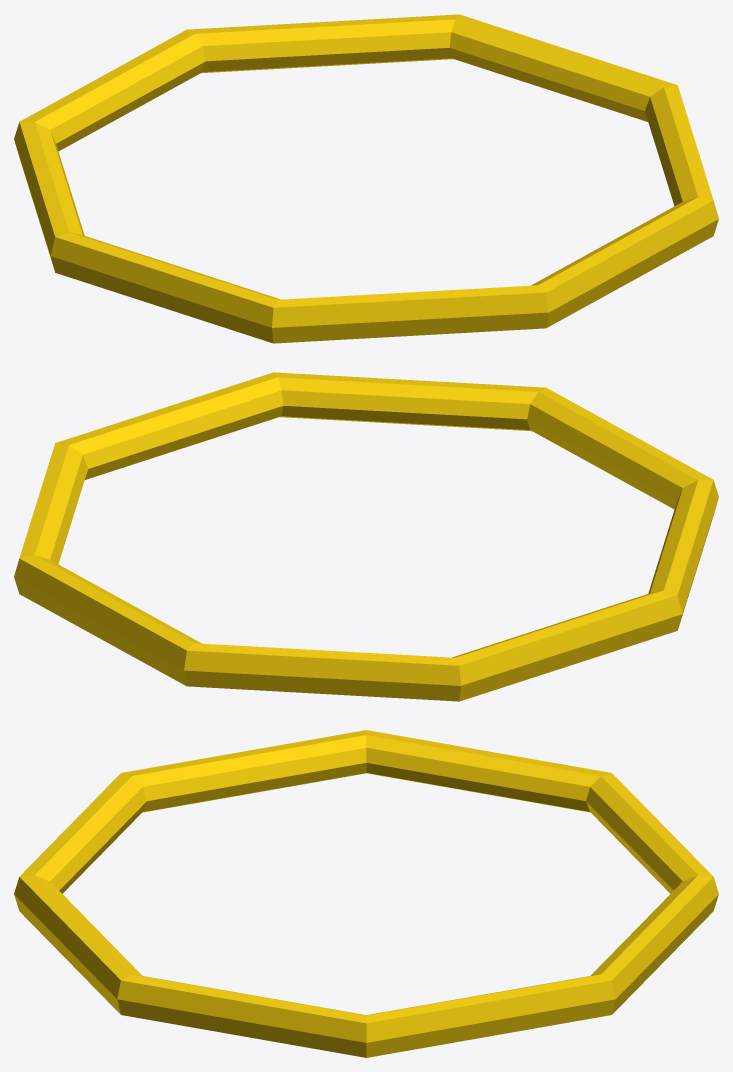
File: Halo_01.obj
3 renders of one model, top to bottom at view 1: azimuth 30°, elevation 25°; view 2: azimuth 150°, elevation 25°; view 3: azimuth 270°, elevation 25°, orthographic. The views are drawn at different scales.
Parts seen in each view (by area): view 1: Halo_Circle.010; view 2: Halo_Circle.010; view 3: Halo_Circle.010.
Part boxes in pixels (box(x1,y1,x2,y2)): Halo_Circle.010: box(14, 14, 718, 343); Halo_Circle.010: box(14, 372, 718, 701); Halo_Circle.010: box(14, 730, 718, 1057).
Bounding box in the file's own units: 9.17 × 0.5497 × 9.17.
